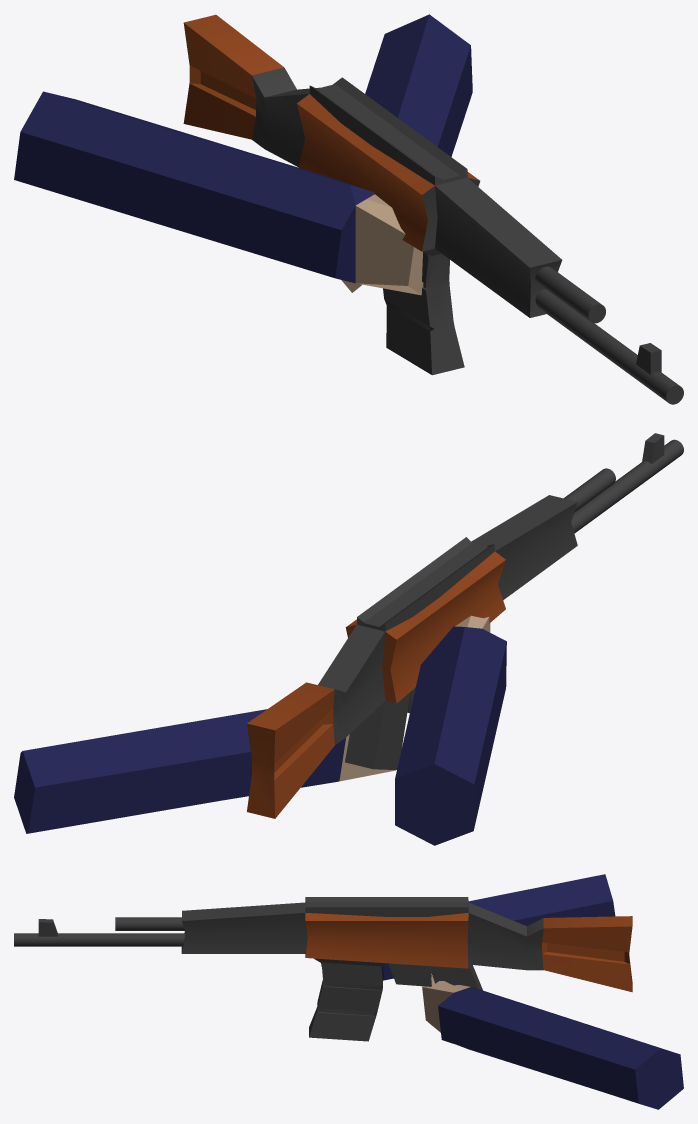
File: 携带AK47.fbx
The picture shows the model from 3 angles, top to bottom: view 1: azimuth 30°, elevation 25°; view 2: azimuth 150°, elevation 25°; view 3: azimuth 270°, elevation 25°; orthographic projection. The views are drawn at different scales.
Visible parts, largest first — view 1: ak47, 手臂, 手臂.001, 弹夹; view 2: ak47, 手臂.001, 手臂; view 3: ak47, 手臂.001, 弹夹, 手臂.
Boxes of the visible parts, bbox=[...] form: ak47: bbox=[183, 14, 683, 404]; 手臂: bbox=[14, 91, 423, 295]; 手臂.001: bbox=[341, 14, 472, 292]; 弹夹: bbox=[383, 252, 464, 375]; ak47: bbox=[247, 433, 683, 818]; 手臂.001: bbox=[14, 709, 395, 833]; 手臂: bbox=[395, 615, 506, 845]; ak47: bbox=[14, 897, 632, 992]; 手臂.001: bbox=[422, 976, 683, 1109]; 弹夹: bbox=[309, 962, 382, 1041]; 手臂: bbox=[381, 874, 615, 980].
Size of the model in its own units: 1206 by 483 by 2184.
